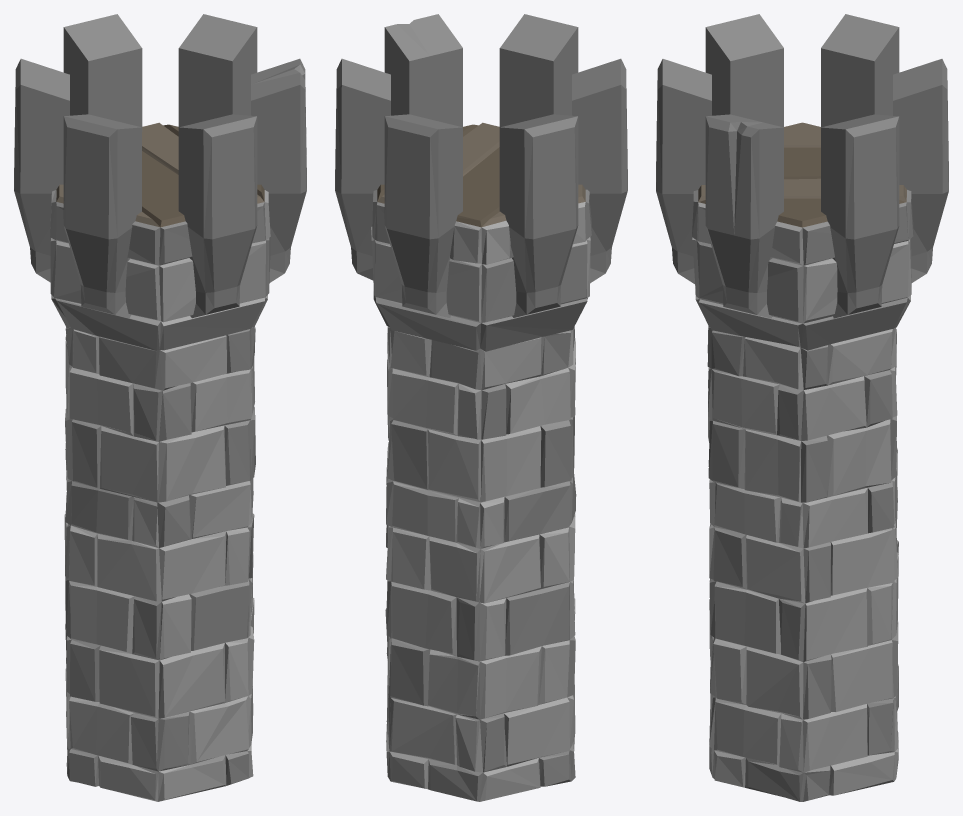
File: _PROPS_FULL.fbx
3 renders of one model, left to right at view 1: azimuth 30°, elevation 25°; view 2: azimuth 150°, elevation 25°; view 3: azimuth 270°, elevation 25°, orthographic.
Parts seen in each view (by area): view 1: PROPS_UP_01, PROPS_PART_01; view 2: PROPS_UP_01, PROPS_PART_01; view 3: PROPS_UP_01, PROPS_PART_01.
Boxes of the visible parts, box(x1,y1,x2,y2) form: PROPS_UP_01: box(14, 14, 306, 502); PROPS_PART_01: box(64, 443, 254, 801); PROPS_UP_01: box(335, 14, 627, 502); PROPS_PART_01: box(385, 442, 576, 801); PROPS_UP_01: box(656, 14, 948, 502); PROPS_PART_01: box(709, 448, 898, 801).
Bounding box in the file's own units: 286 × 780 × 301.
